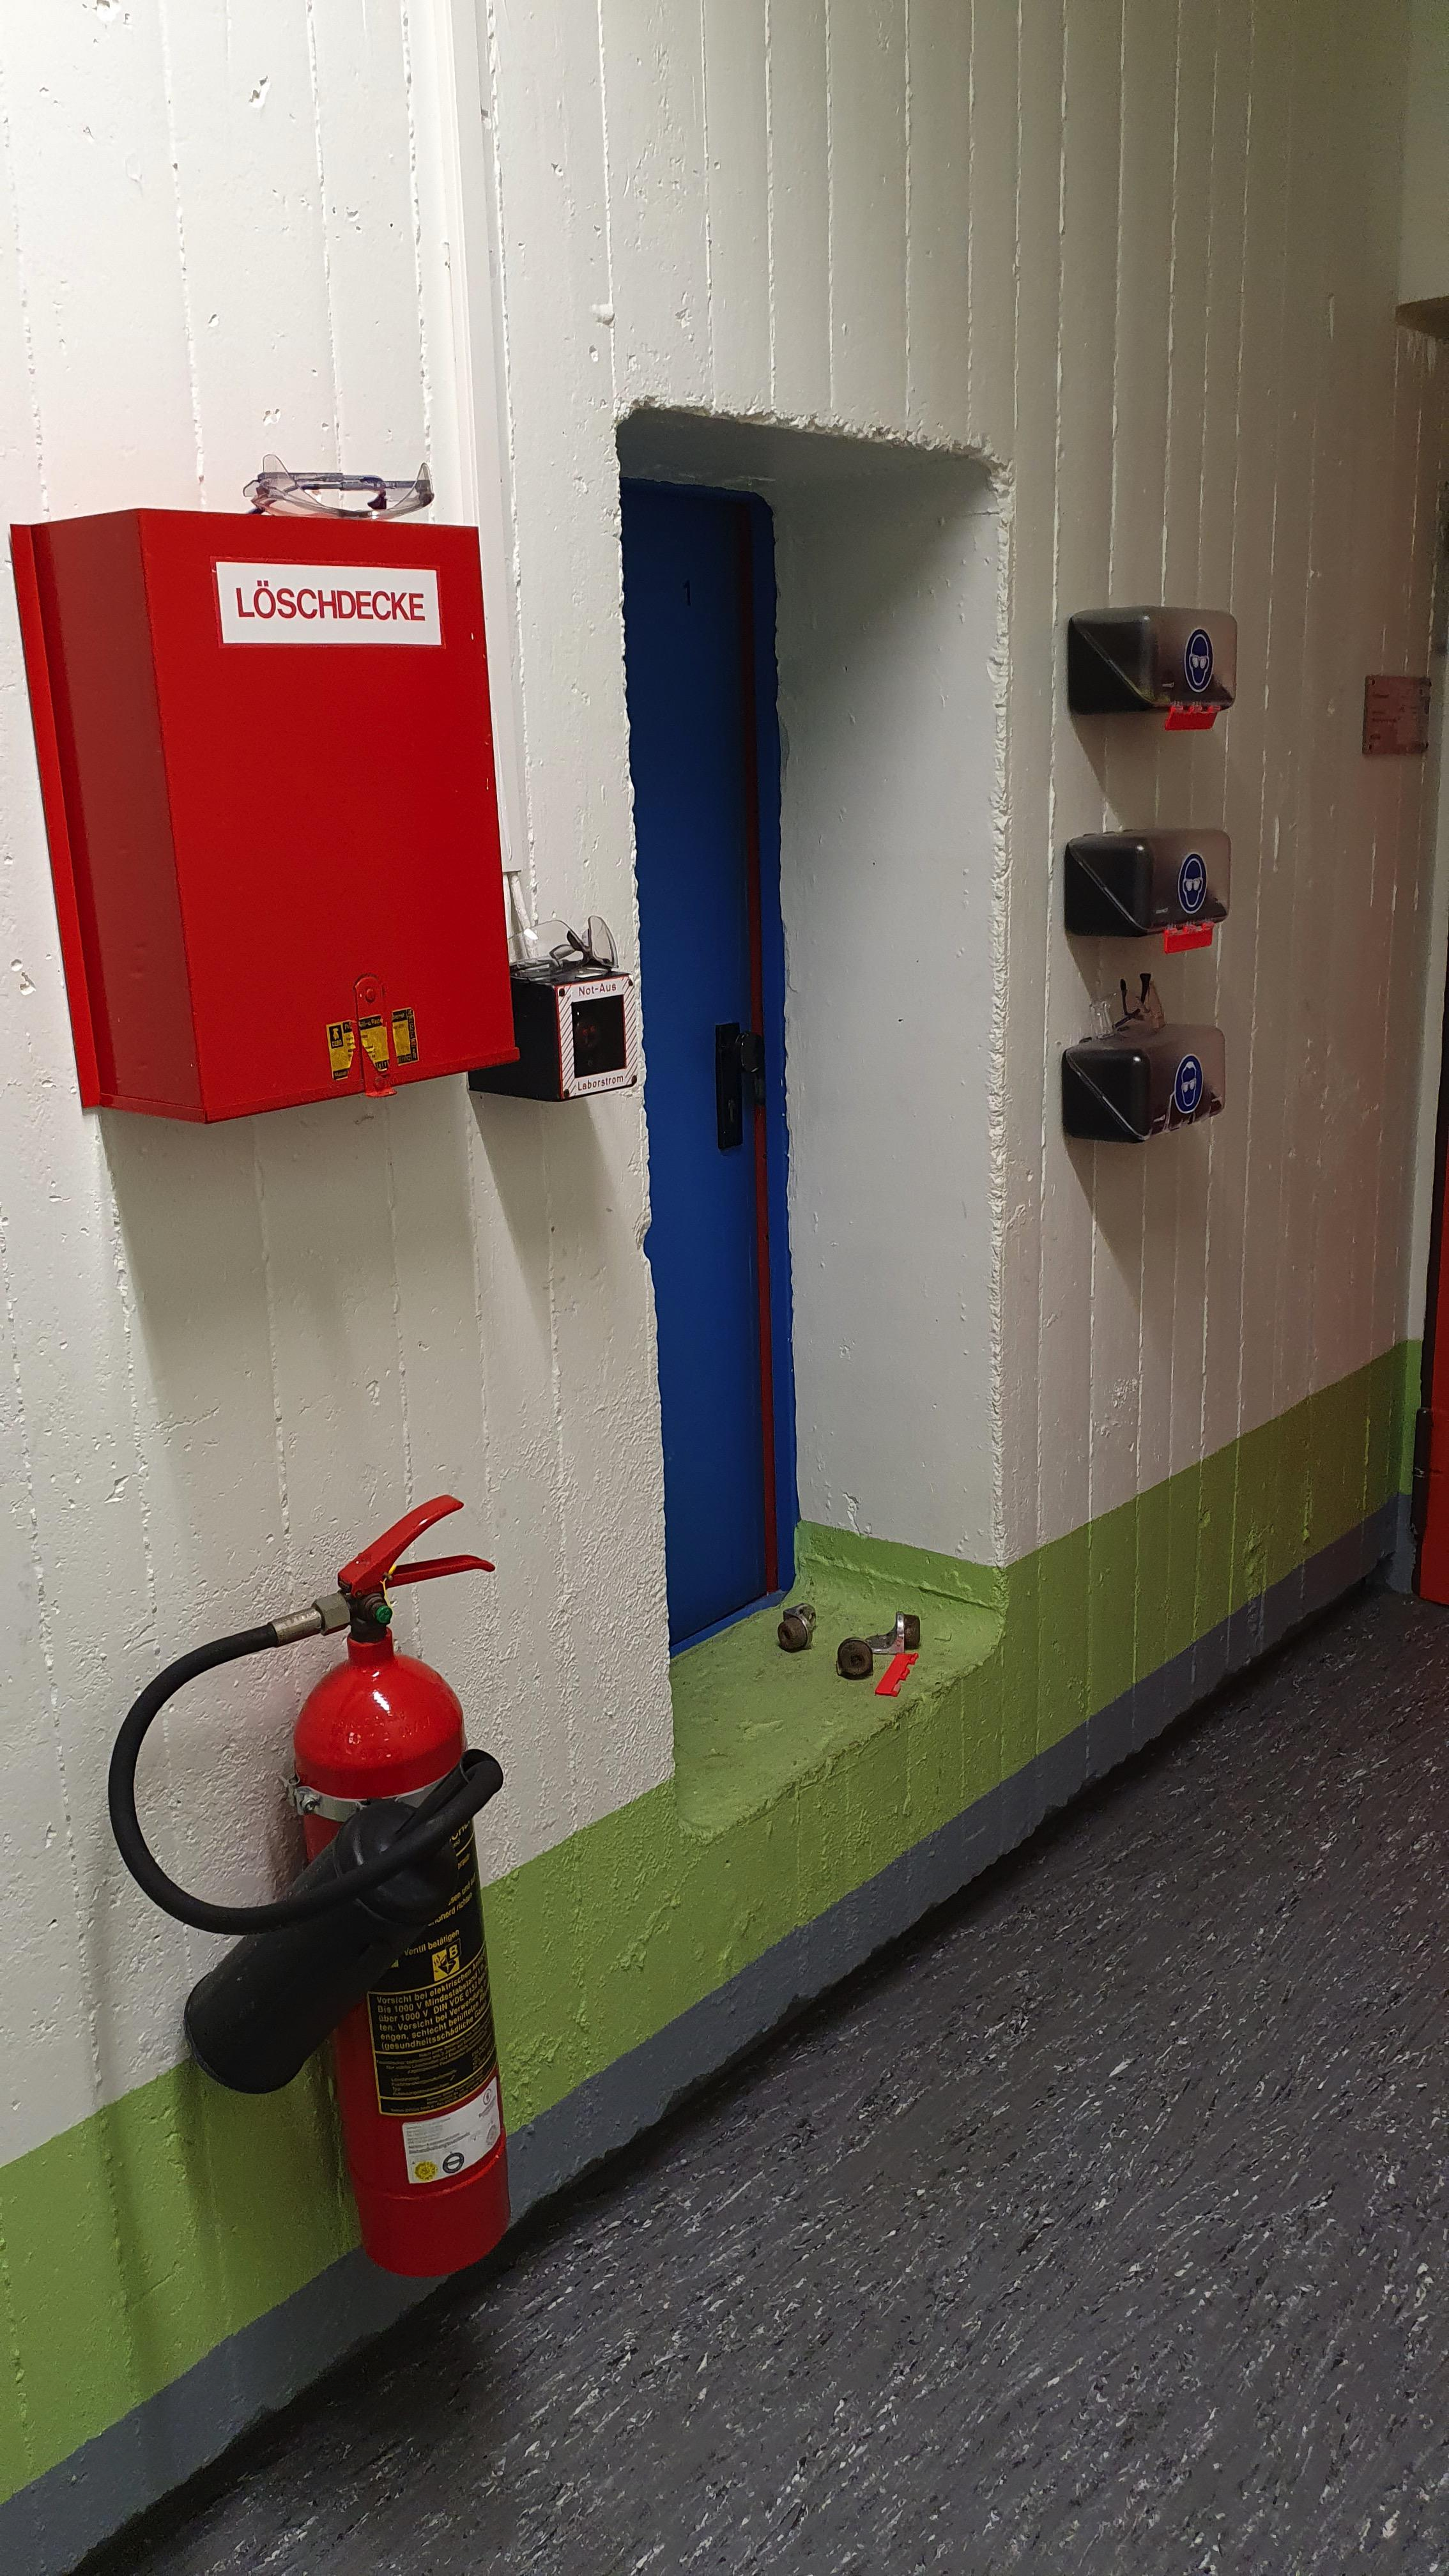extinguisher: (106, 1493, 513, 2281)
